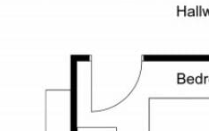door: (88, 45, 144, 117)
